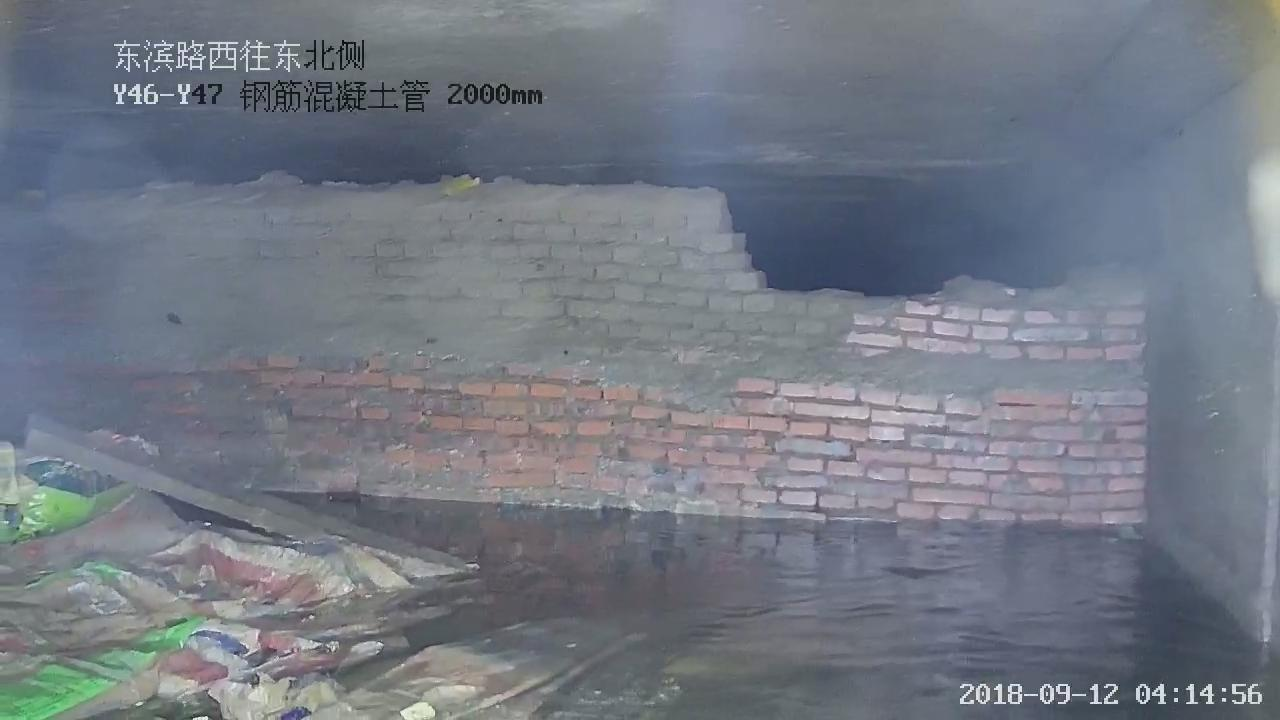CQBG: (0, 173, 1145, 527)
